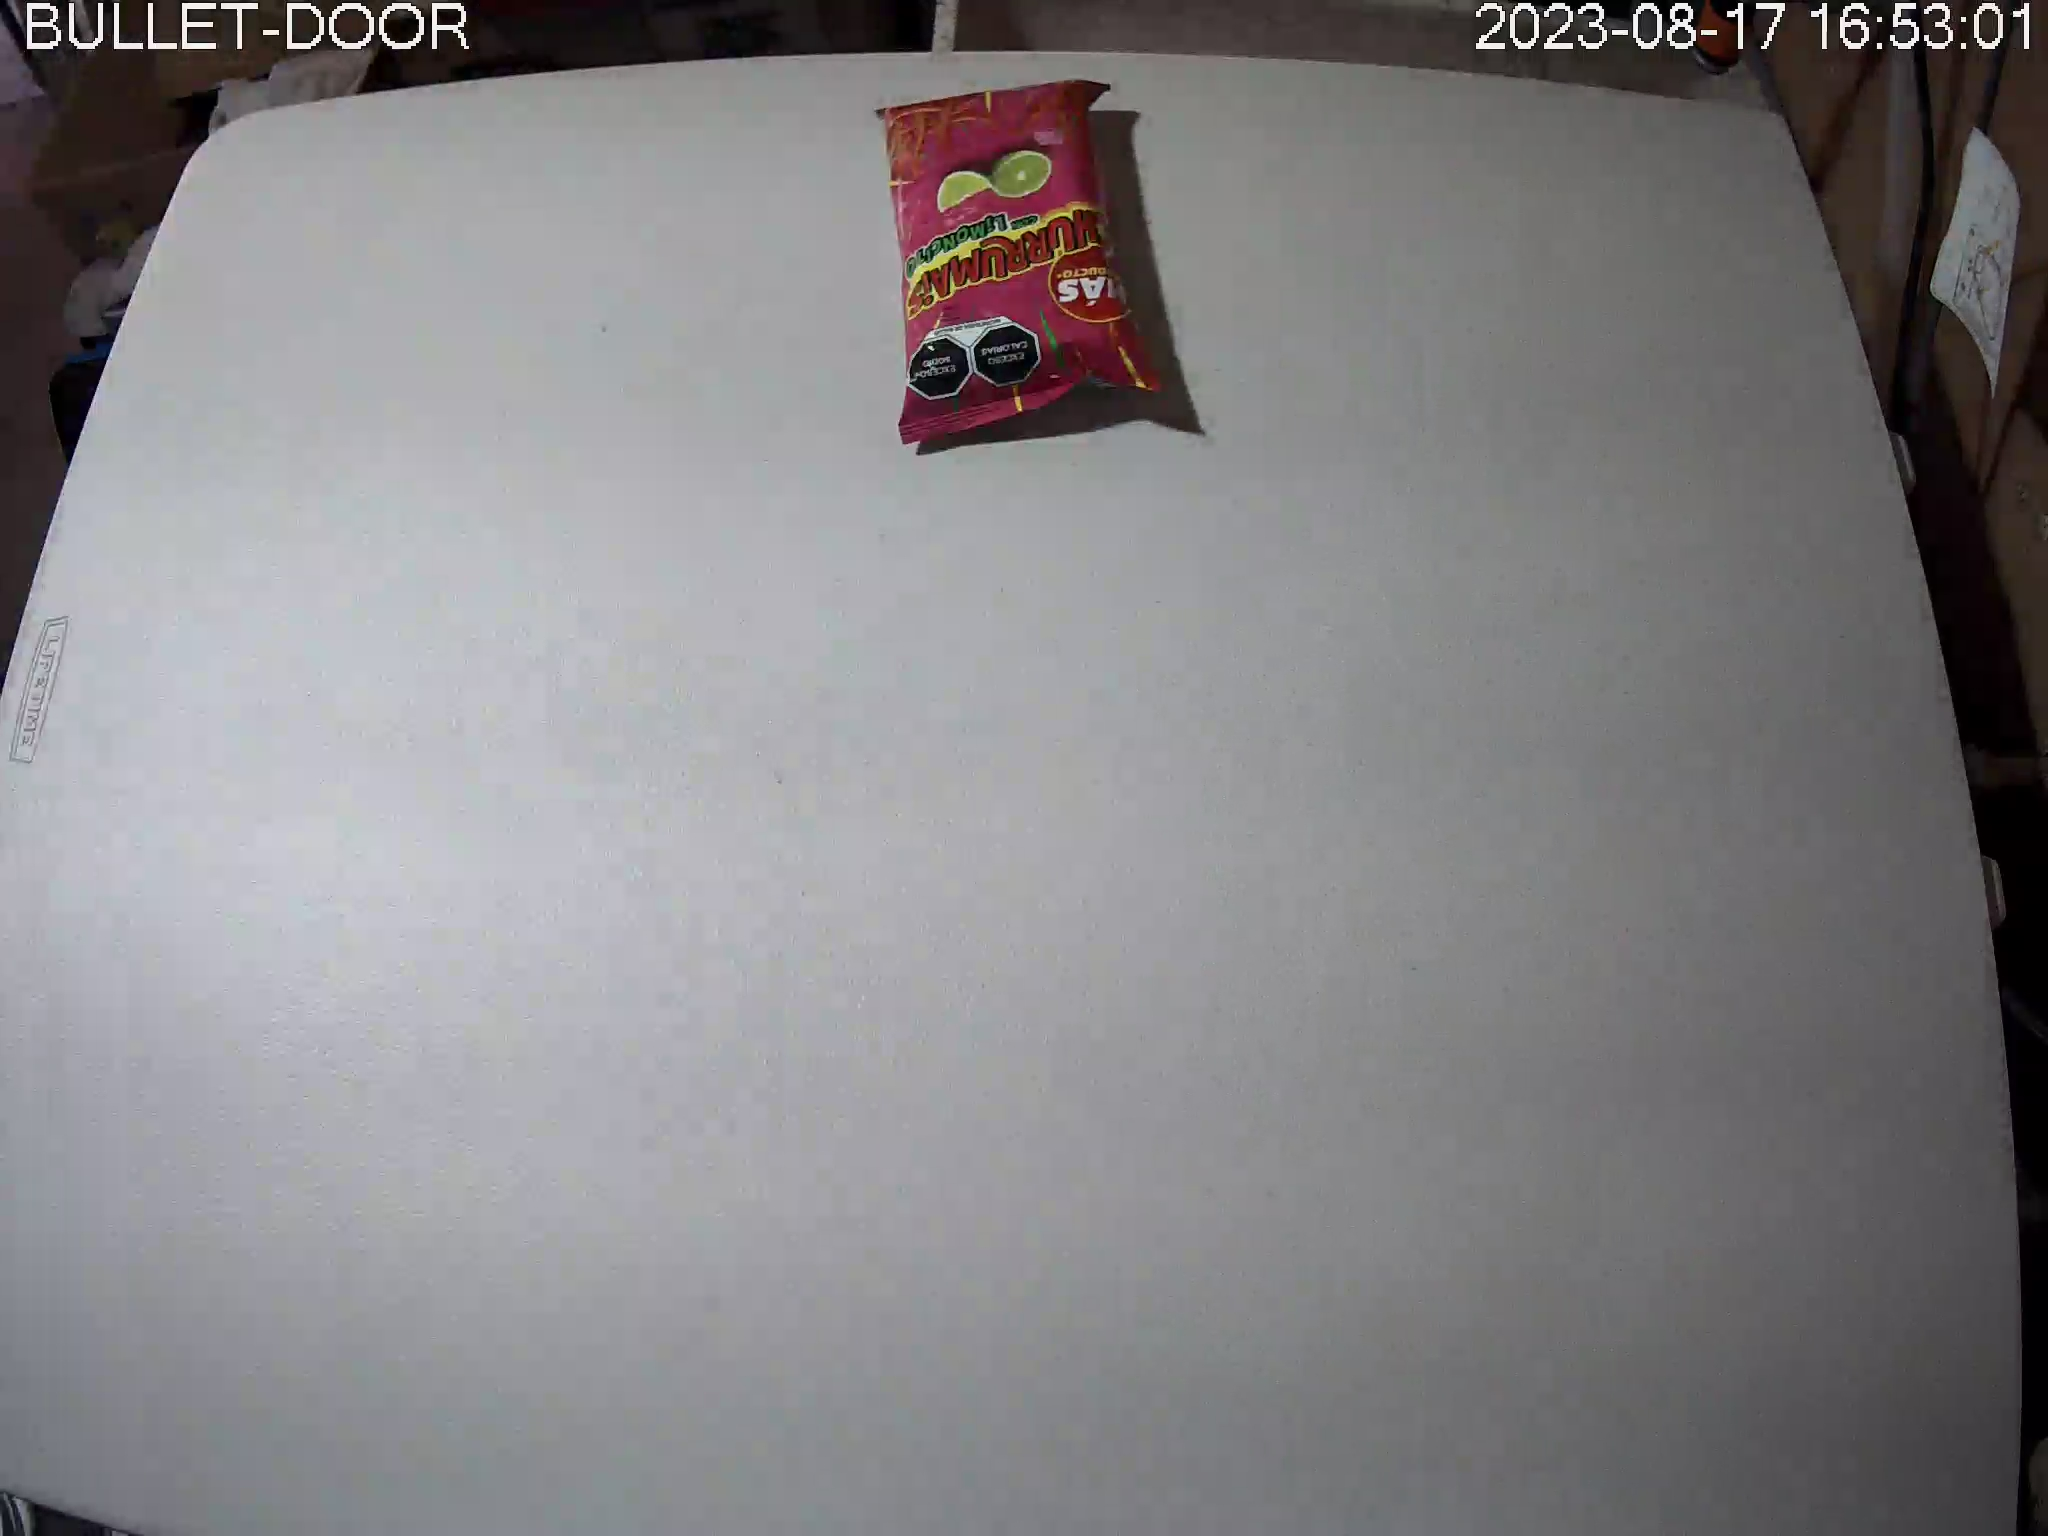Churrumais_70_F: (872, 81, 1169, 445)
